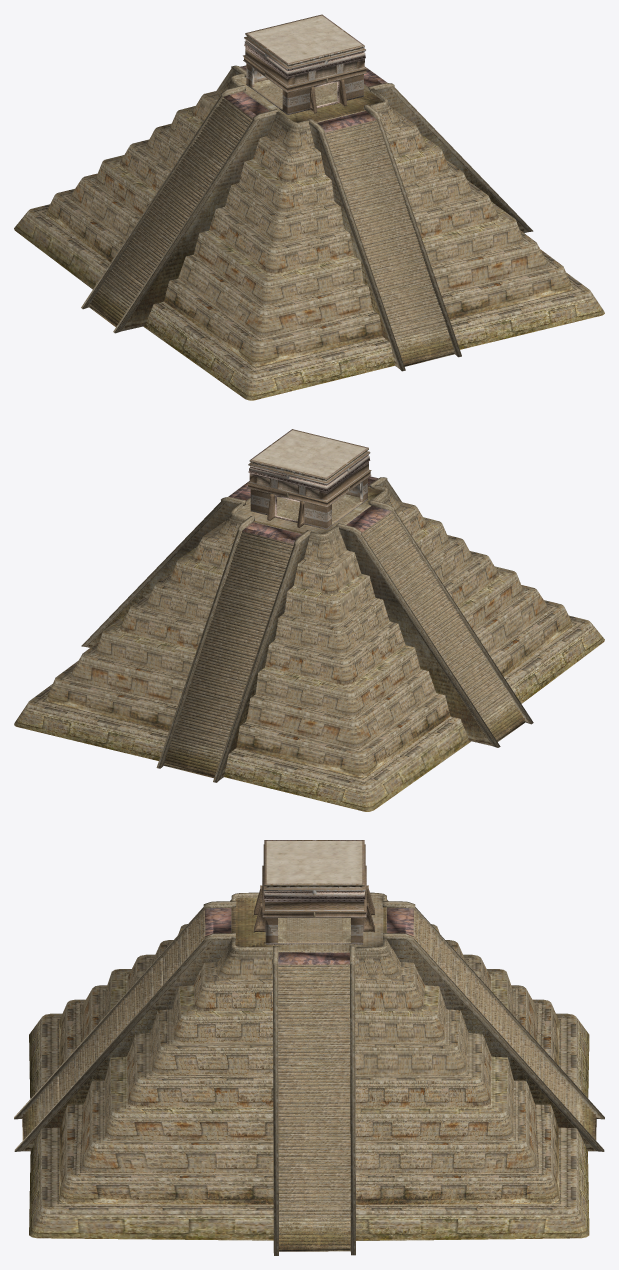
The model's file is mayanpyramid.dae.
The picture shows the model from 3 angles, top to bottom: view 1: azimuth 30°, elevation 25°; view 2: azimuth 150°, elevation 25°; view 3: azimuth 270°, elevation 25°; orthographic projection. The views are drawn at different scales.
Visible parts, largest first — view 1: meshU3D; view 2: meshU3D; view 3: meshU3D.
Part boxes in pixels (x1,y1,x2,y2): meshU3D: [14, 14, 604, 400]; meshU3D: [14, 429, 604, 811]; meshU3D: [14, 840, 604, 1255].
Bounding box in the file's own units: 2127 × 1132 × 2207.
4 materials, 4 textured.
